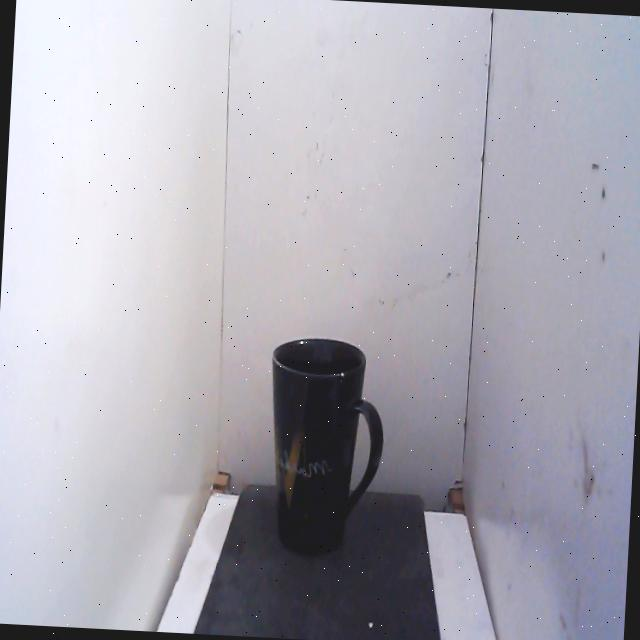glass: (250, 329, 400, 558)
